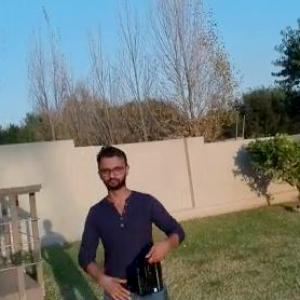follow: (74, 142, 191, 299)
